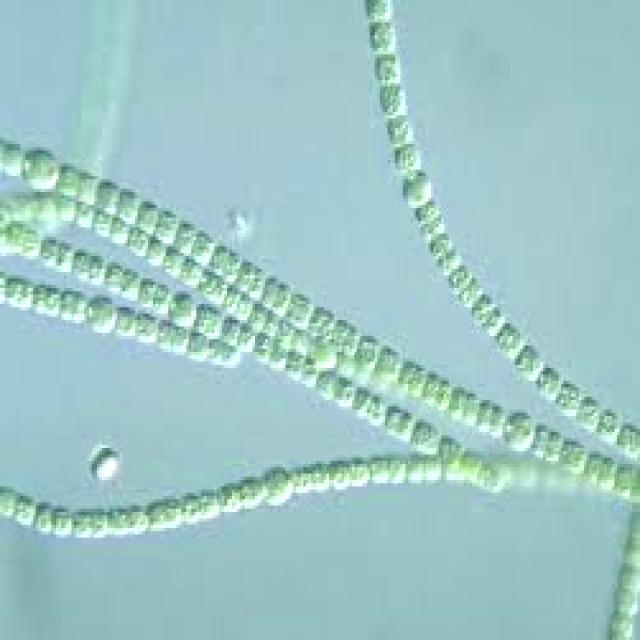Blue Green Algae: (21, 147, 58, 192), (102, 256, 138, 298), (500, 410, 535, 451), (401, 166, 434, 208), (587, 444, 617, 490), (372, 333, 400, 381), (365, 16, 400, 54), (375, 80, 410, 118), (319, 365, 354, 403), (350, 381, 382, 422), (135, 272, 166, 314), (332, 311, 359, 358), (41, 227, 69, 272), (263, 464, 293, 506), (423, 365, 449, 413), (209, 243, 240, 282), (71, 243, 102, 282), (413, 419, 444, 458), (535, 358, 561, 404), (260, 272, 291, 310), (385, 400, 413, 442), (398, 358, 428, 397), (270, 340, 304, 374), (449, 381, 477, 422), (515, 342, 543, 381), (288, 288, 314, 330), (533, 422, 561, 461), (388, 138, 420, 172), (372, 48, 403, 83), (237, 253, 263, 294), (61, 285, 87, 326), (576, 390, 599, 436), (189, 224, 214, 266), (36, 275, 61, 317), (240, 324, 270, 358), (385, 112, 413, 147), (194, 304, 222, 339), (133, 195, 158, 234), (561, 435, 586, 474), (617, 416, 640, 458), (359, 326, 380, 372), (237, 474, 265, 508), (153, 205, 178, 243), (477, 400, 502, 438), (156, 317, 183, 352), (114, 182, 138, 221), (94, 176, 118, 214), (308, 304, 332, 342), (5, 275, 33, 307), (607, 611, 637, 640), (495, 324, 520, 358), (365, 452, 390, 486), (71, 166, 97, 198), (127, 502, 153, 534), (614, 585, 640, 617), (199, 486, 222, 522), (173, 214, 194, 253), (599, 400, 620, 438), (556, 378, 579, 412), (446, 262, 472, 292), (51, 506, 71, 544), (456, 278, 479, 310), (148, 496, 171, 528), (56, 160, 77, 195), (135, 308, 156, 342), (13, 496, 33, 531), (107, 502, 128, 534), (413, 195, 436, 224), (421, 214, 444, 243), (217, 483, 240, 512), (357, 3, 398, 19), (36, 499, 56, 531), (347, 458, 367, 490), (329, 461, 347, 496), (390, 454, 411, 484), (184, 333, 209, 358), (438, 246, 462, 272), (308, 464, 329, 493), (72, 509, 90, 541), (112, 307, 133, 333), (472, 291, 489, 323), (222, 316, 240, 346), (426, 230, 446, 253), (3, 490, 15, 524)
